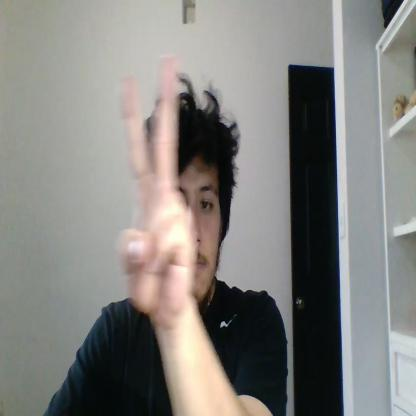V: (118, 57, 196, 322)
